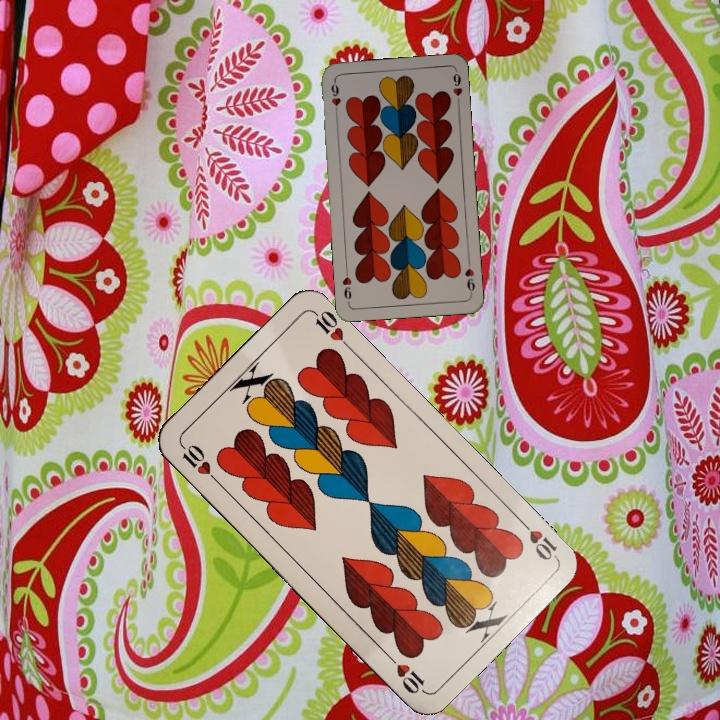H10: (514, 514, 560, 563), (176, 440, 222, 487)
H9: (461, 257, 477, 297), (327, 77, 343, 117)
